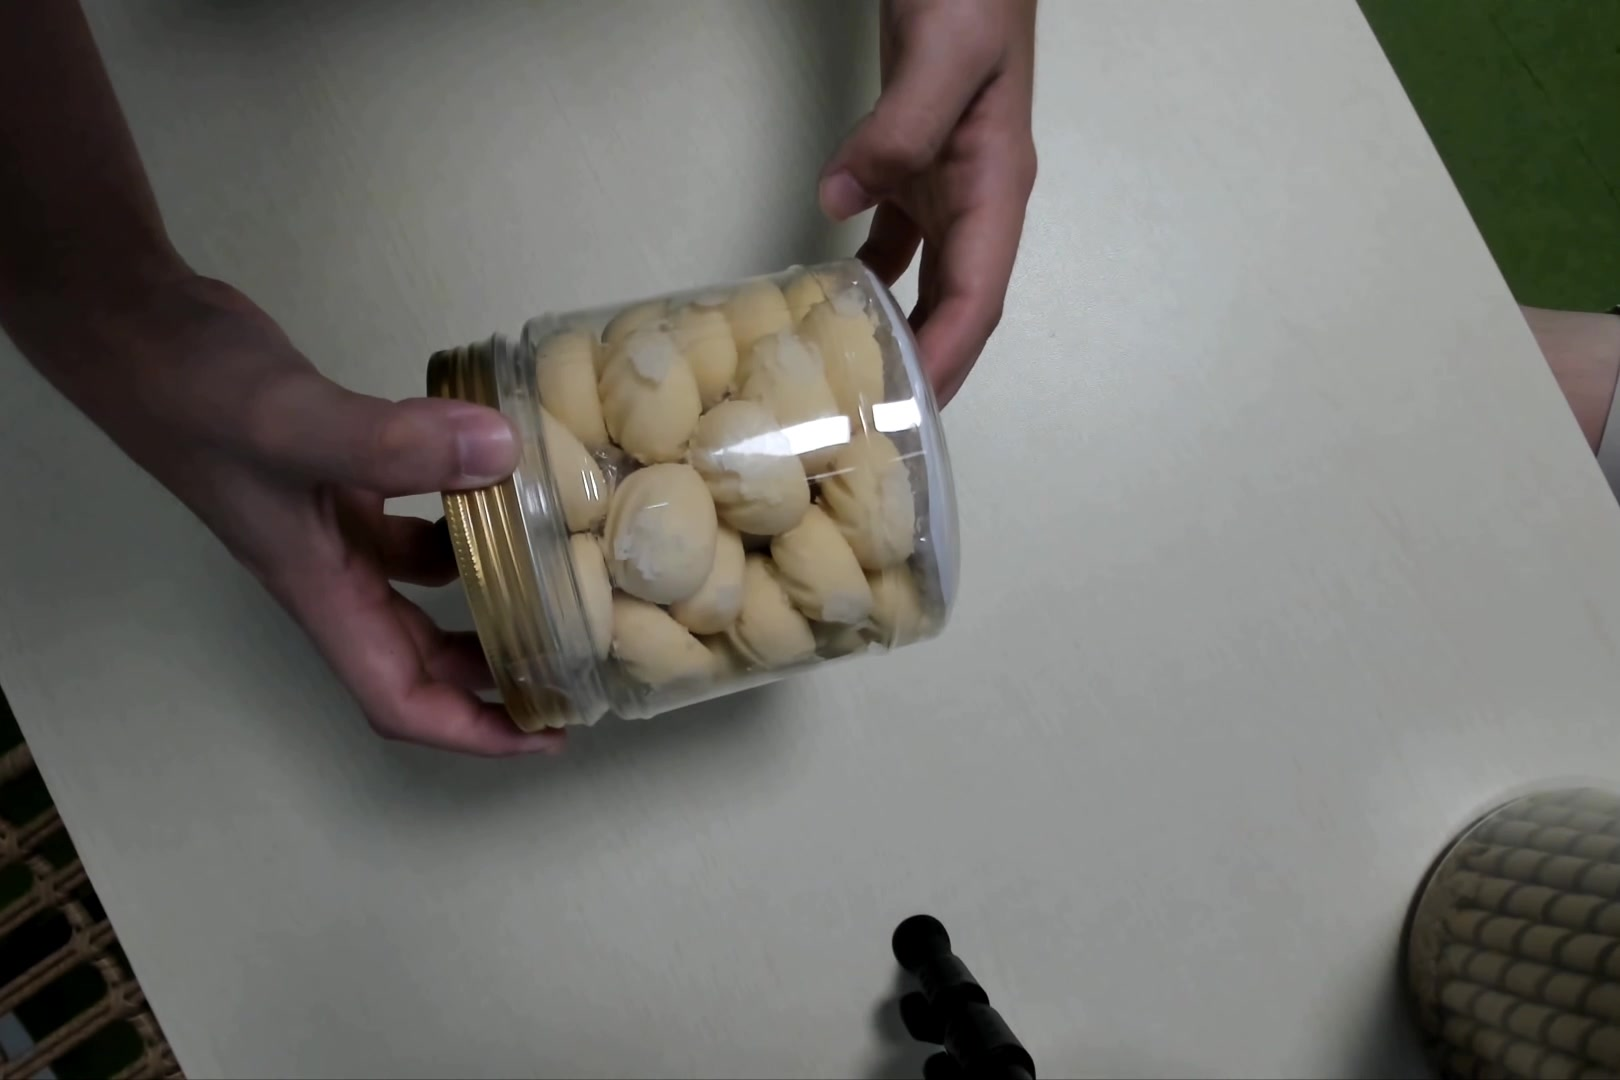BiscuitsCrackersCookies_200-299g_Halal_NonHealthy: (424, 266, 953, 733)
